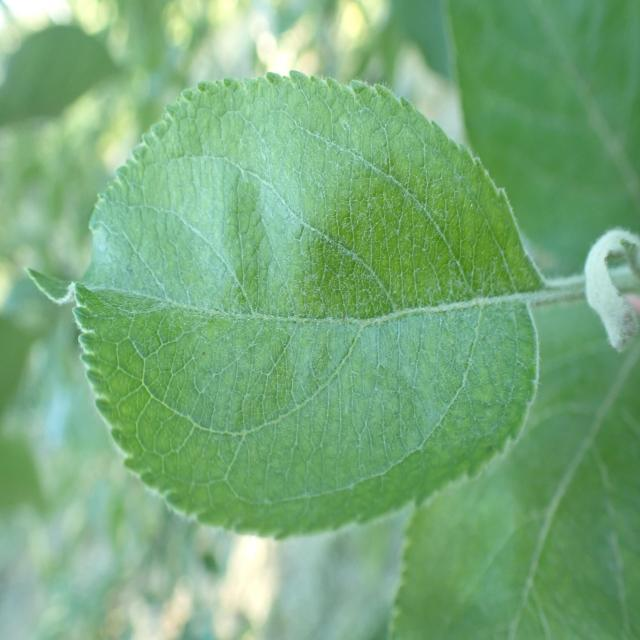healthy: (22, 71, 546, 541), (387, 293, 640, 640)
